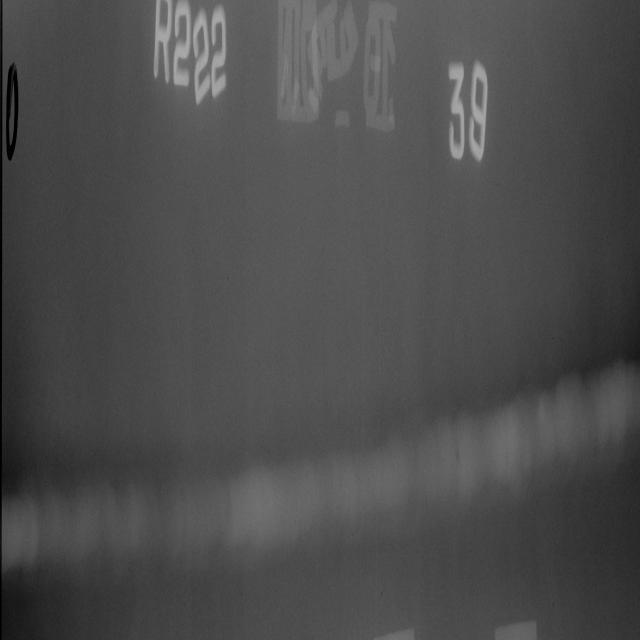FF: (574, 339, 638, 385), (2, 575, 45, 622)
FP: (453, 440, 463, 473)
